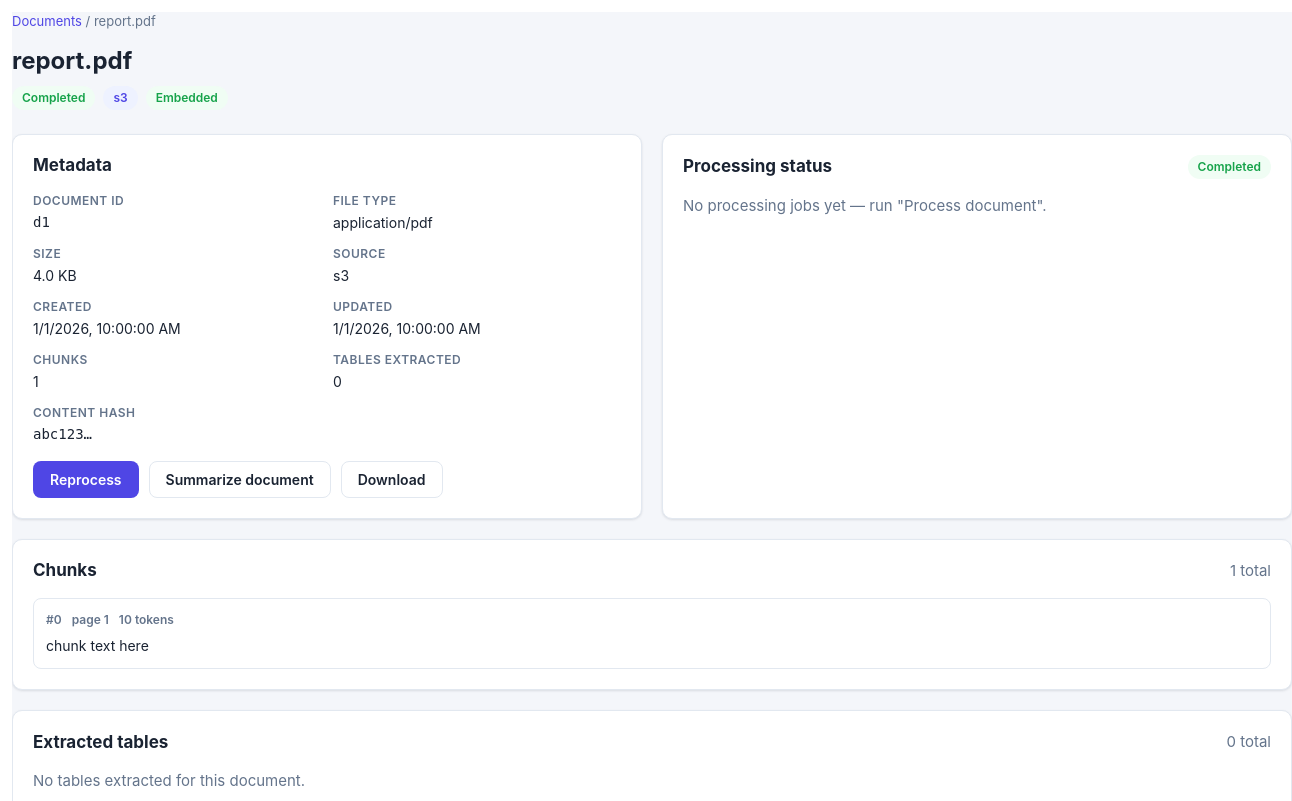
Test: DocumentDetailPage summary › requests a summary and renders it with provider and sources
The image size is (1292, 801).
Step 1. Click the button "Summarize document" → {"x": 240, "y": 479}, box [149,461,331,498]
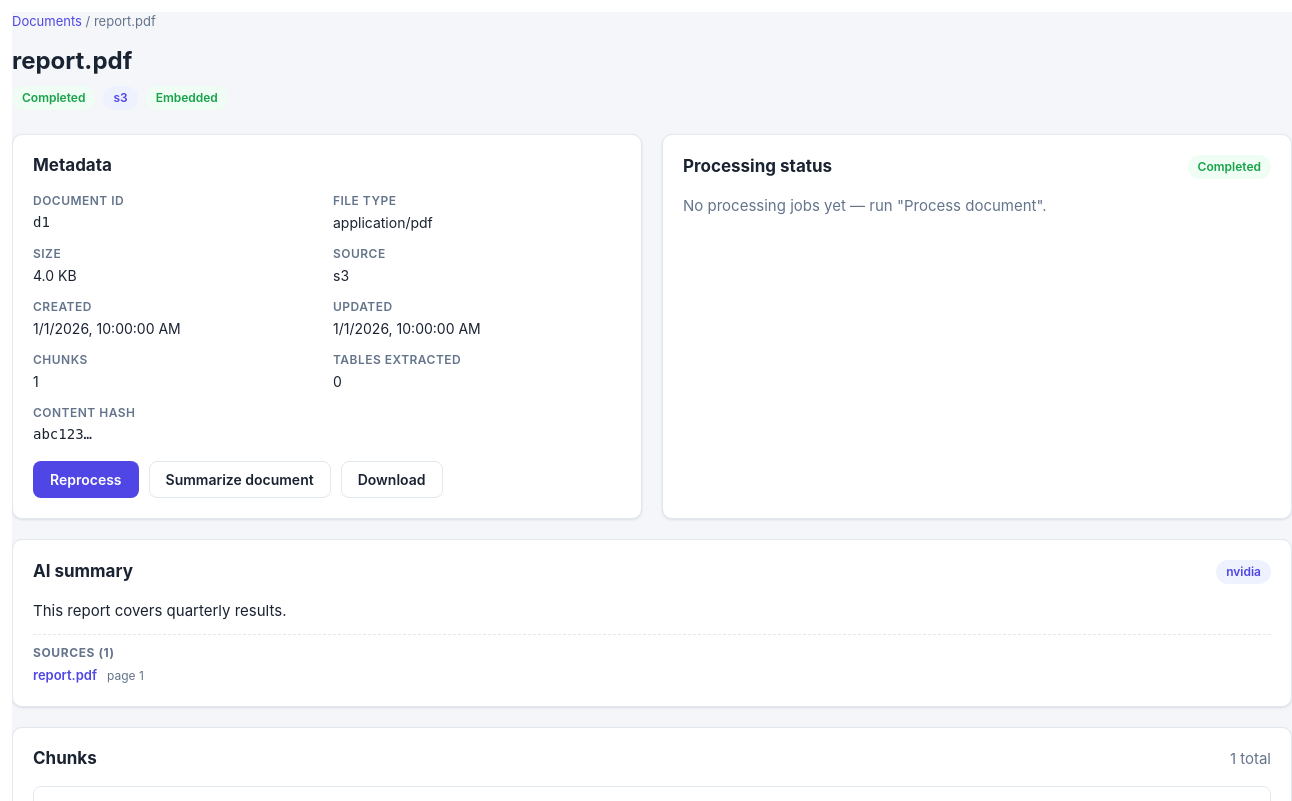
Result: the text "This report covers quarterly results." is shown at [33,601,286,620]
Result: the text "nvidia" is shown at [1216,560,1271,584]
Result: the heading "Sources (1)" is shown at [33,645,115,660]
